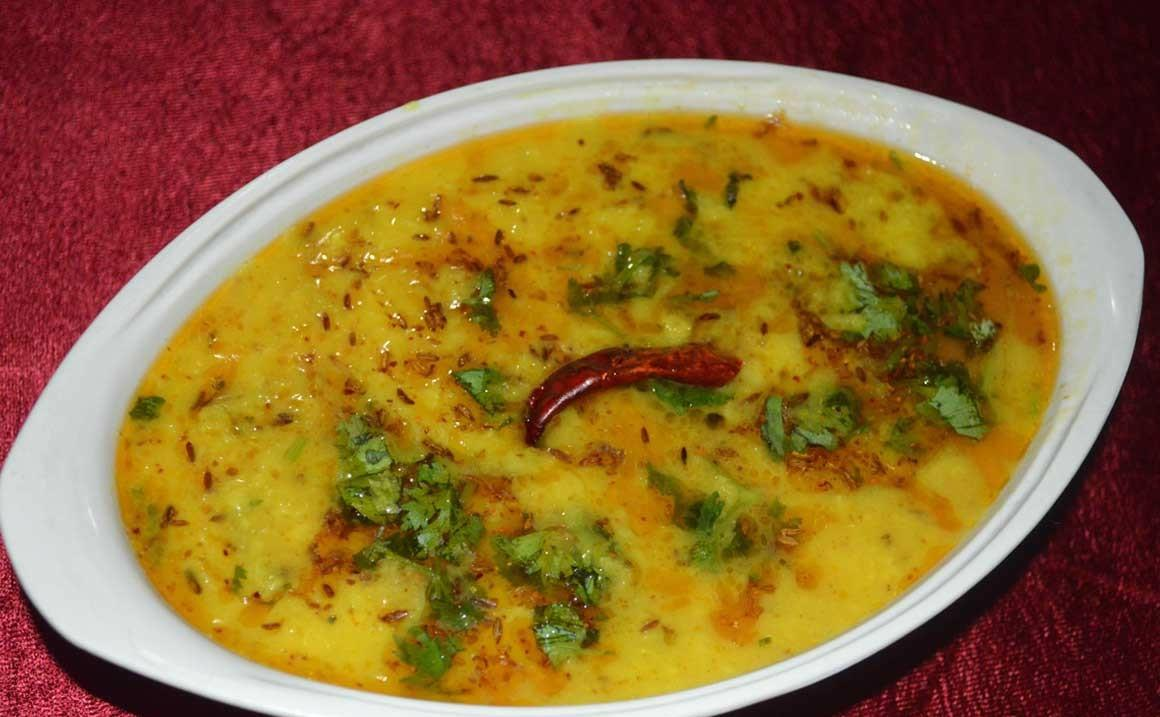Dal: (115, 113, 1058, 708)
